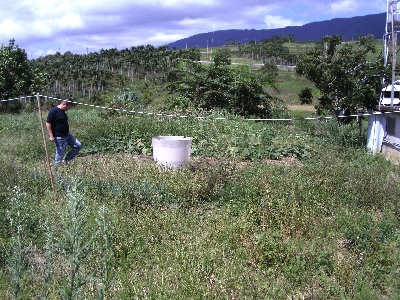bucket: (152, 135, 193, 168)
